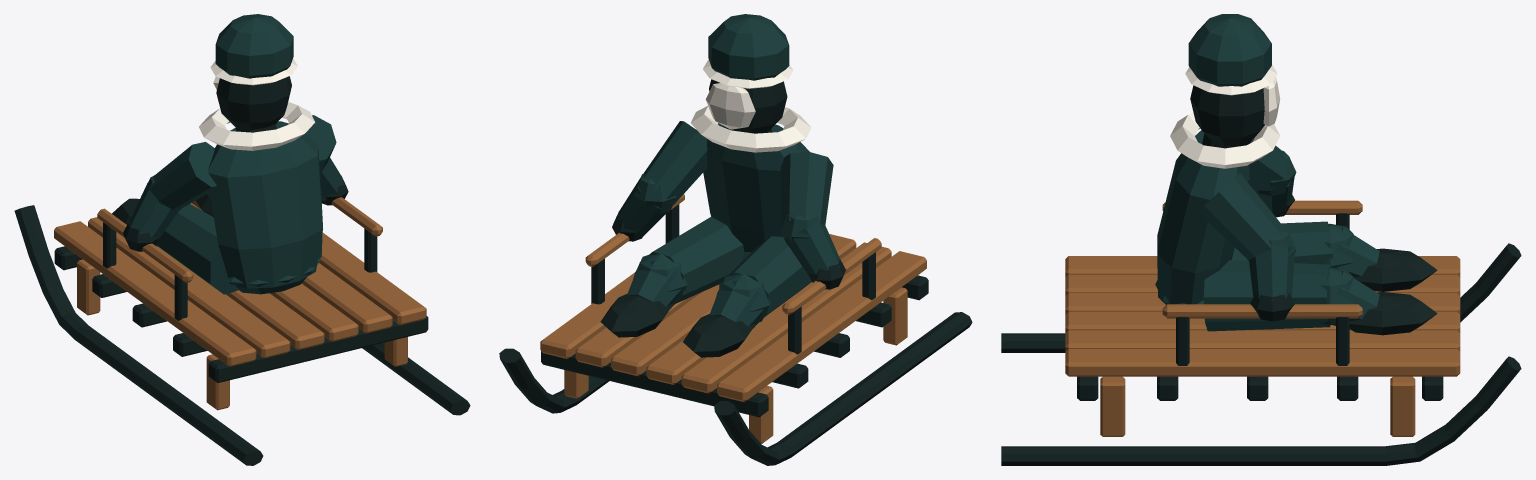
File: sled_rider.glb
The picture shows the model from 3 angles, left to right: view 1: azimuth 30°, elevation 25°; view 2: azimuth 150°, elevation 25°; view 3: azimuth 270°, elevation 25°; orthographic projection. The views are drawn at different scales.
Parts seen in each view (by area): view 1: jacketTorso, runnerLeft, deckSlat_01, deckSlat_02, winterCap, thighLeft, crossMember_01, deckSlat_06, head, upperArmLeft, creamScarf, deckSlat_05 (+21 smaller); view 2: jacketTorso, deckSlat_01, runnerLeft, winterCap, deckSlat_02, thighRight, upperArmLeft, deckSlat_04, upperArmRight, thighLeft, crossMember_05, creamScarf (+29 smaller); view 3: runnerRight, deckSlat_06, jacketTorso, deckSlat_05, winterCap, thighRight, upperArmRight, head, deckSlat_04, runnerLeft, creamScarf, deckSlat_02 (+27 smaller).
Part boxes in pixels (<box>): jacketTorso: <box>208,121,322,288</box>; runnerLeft: <box>14,205,263,465</box>; deckSlat_01: <box>54,221,256,366</box>; deckSlat_02: <box>88,213,290,358</box>; winterCap: <box>215,14,293,78</box>; thighLeft: <box>155,204,238,294</box>; crossMember_01: <box>208,316,428,382</box>; deckSlat_06: <box>319,232,426,325</box>; head: <box>216,76,291,129</box>; upperArmLeft: <box>149,142,216,210</box>; creamScarf: <box>199,102,315,150</box>; deckSlat_05: <box>192,201,392,333</box>; jacketTorso: <box>703,123,809,252</box>; deckSlat_01: <box>717,251,926,402</box>; runnerLeft: <box>714,312,972,465</box>; winterCap: <box>708,14,789,80</box>; deckSlat_02: <box>681,242,891,393</box>; thighRight: <box>648,217,744,303</box>; upperArmLeft: <box>780,152,833,226</box>; deckSlat_04: <box>611,284,719,376</box>; upperArmRight: <box>643,121,707,205</box>; thighLeft: <box>719,236,811,317</box>; crossMember_05: <box>541,351,768,417</box>; creamScarf: <box>691,106,811,152</box>; runnerRight: <box>1001,356,1521,465</box>; deckSlat_06: <box>1065,349,1460,376</box>; jacketTorso: <box>1157,130,1249,304</box>; deckSlat_05: <box>1065,330,1460,351</box>; winterCap: <box>1188,14,1271,86</box>; thighRight: <box>1203,260,1330,331</box>; upperArmRight: <box>1198,173,1286,260</box>; head: <box>1190,85,1264,147</box>; deckSlat_04: <box>1065,311,1460,332</box>; runnerLeft: <box>1001,243,1521,352</box>; creamScarf: <box>1170,112,1280,168</box>; deckSlat_02: <box>1065,274,1460,295</box>.
Size of the model in its own units: 1.17 by 1.72 by 2.08.
